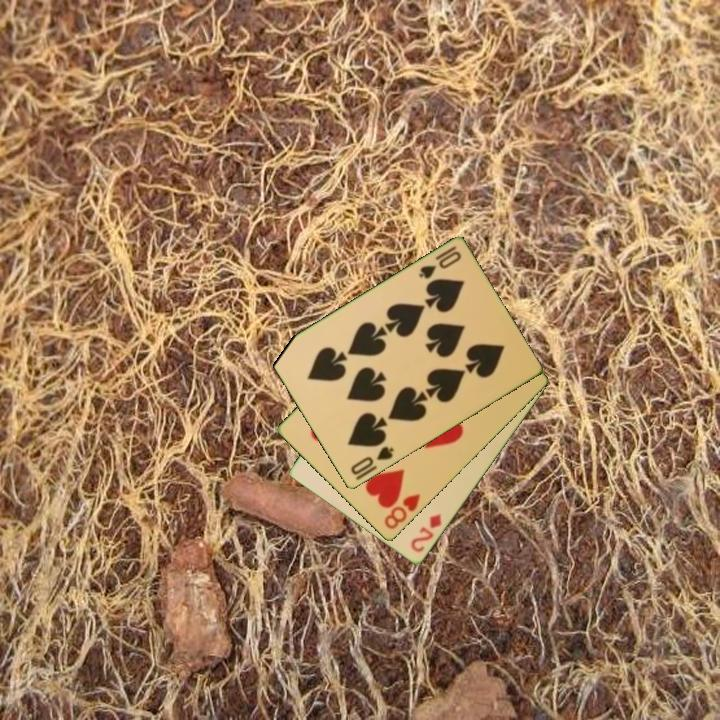10s: (415, 243, 464, 282), (347, 443, 397, 478)
2d: (407, 511, 445, 556)
8h: (381, 490, 423, 532)
